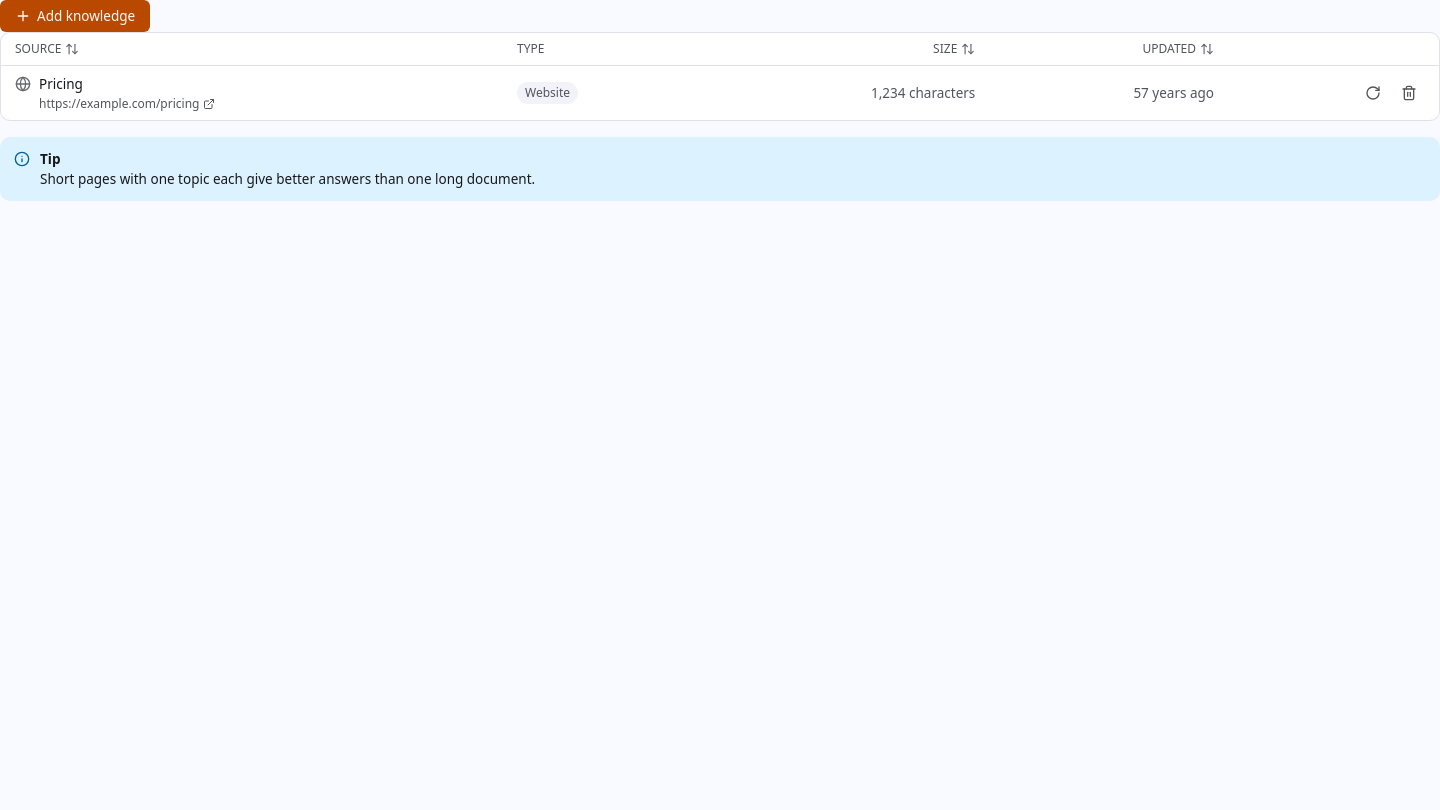
it: asks before deleting, and keeps the dialog open with the error when it fails
The width and height of the screenshot is (1440, 810).
Click the button named "Delete “Pricing”".
click(1409, 93)  # box [1393, 77, 1425, 109]
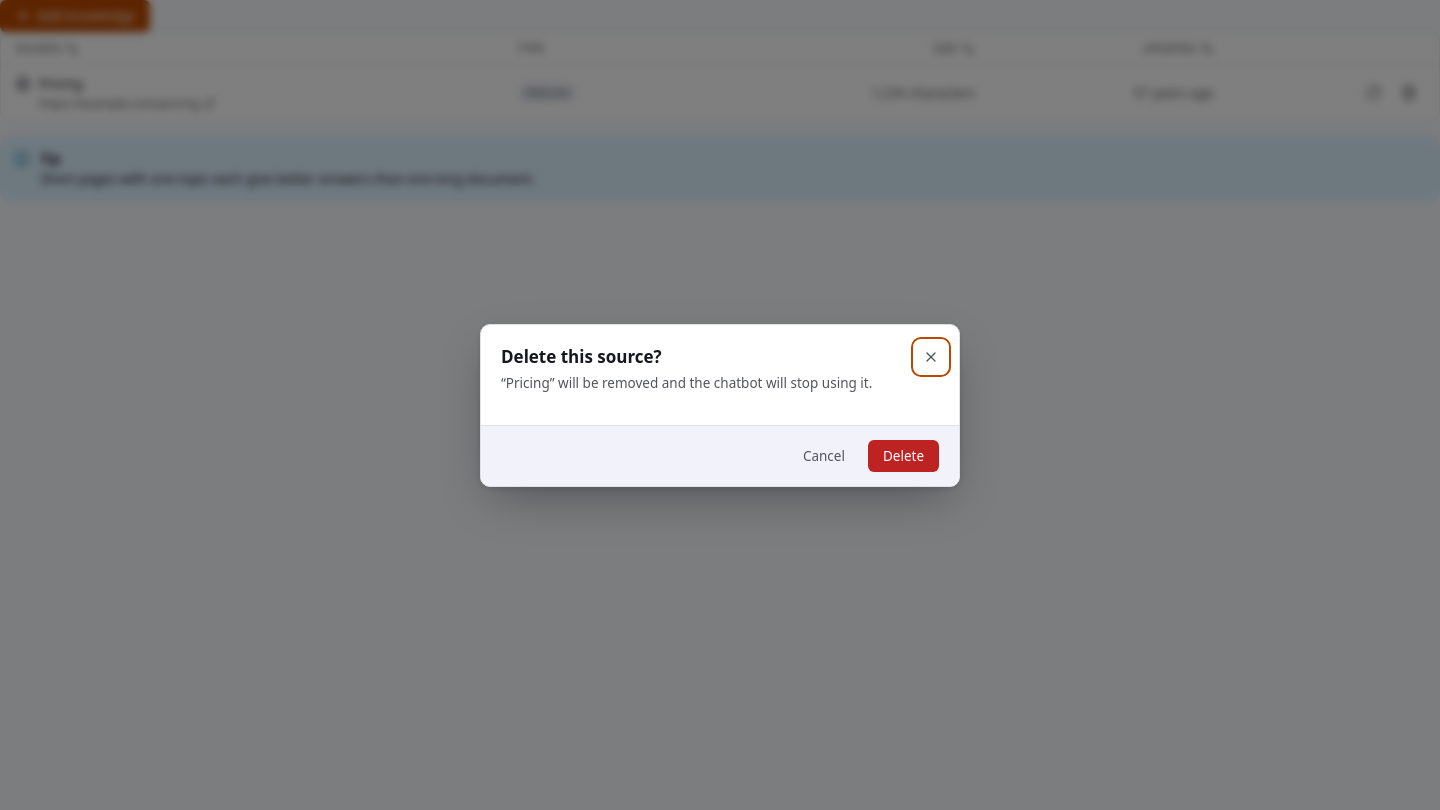
Click the button "Delete".
click(903, 456)  # box [868, 440, 939, 472]
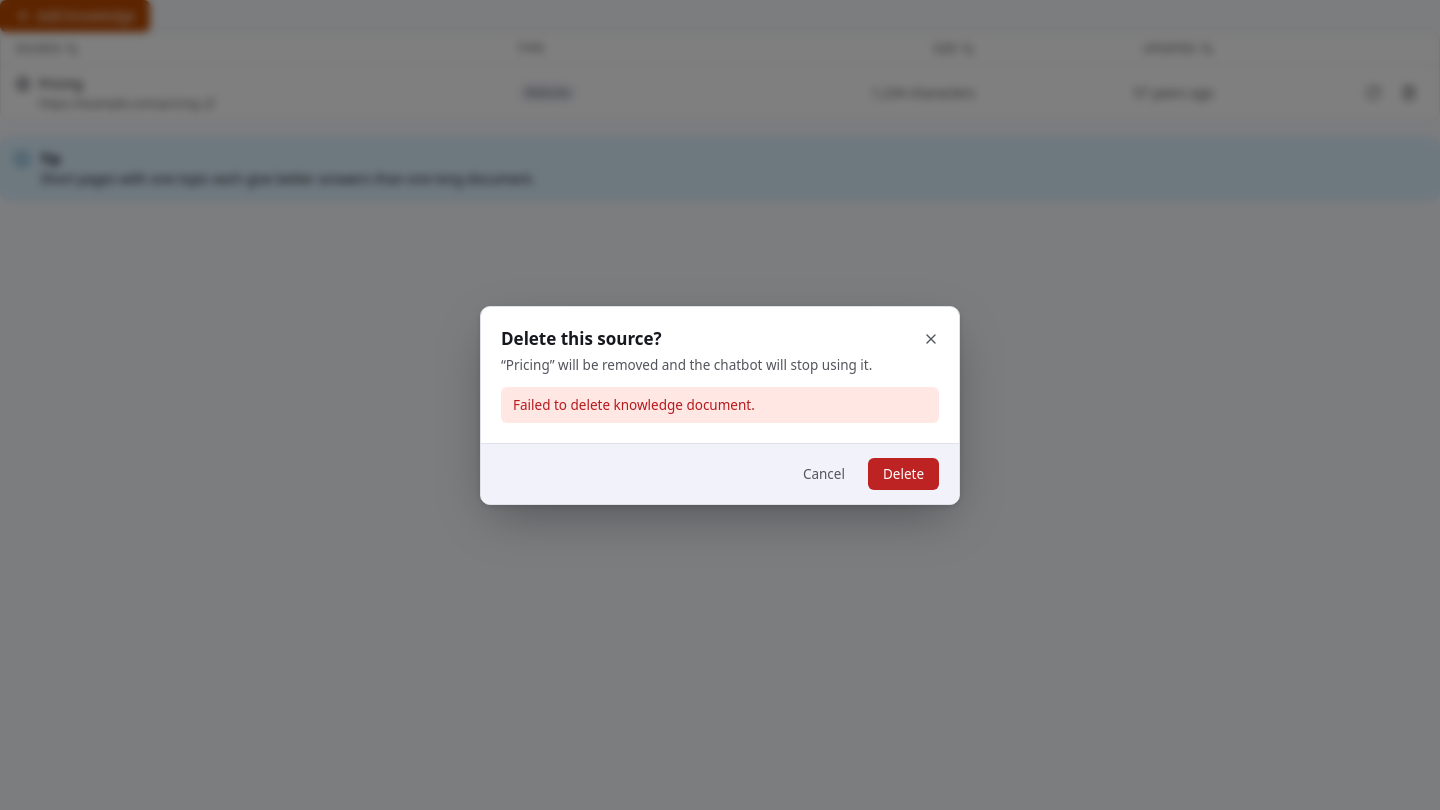
Check: the message "Failed to delete knowledge document." is shown, box [501, 386, 939, 422]
Click the button "Delete".
click(903, 474)  # box [868, 458, 939, 490]
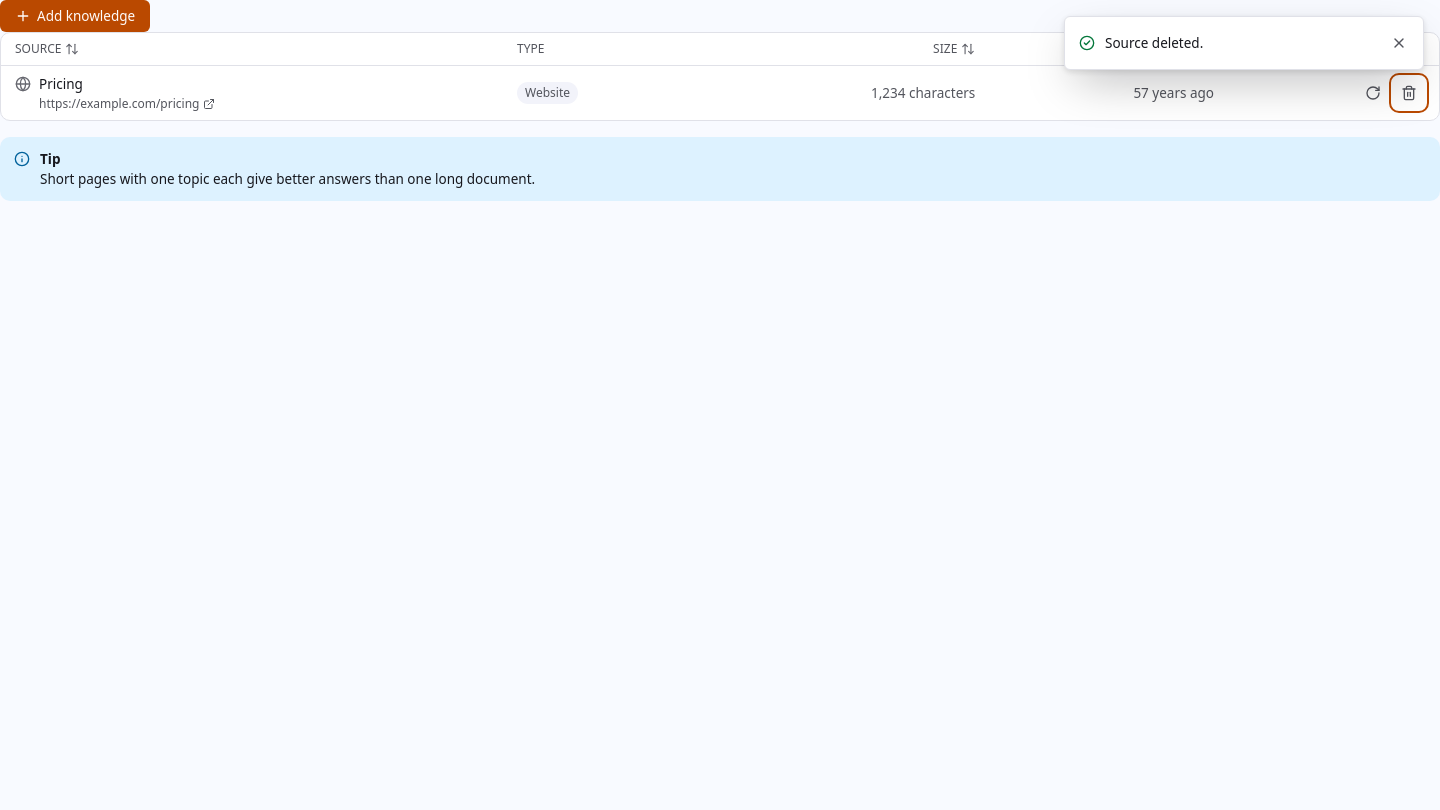
Check: the text "Source deleted." is shown, box [1105, 34, 1203, 52]
